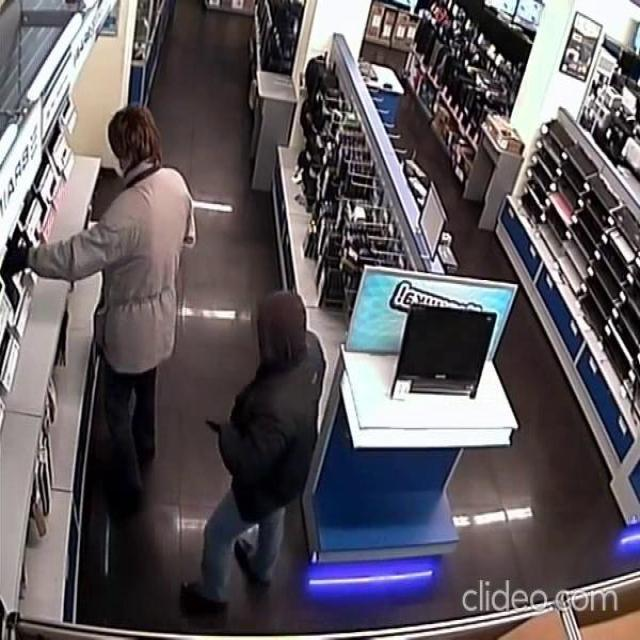pistol: (202, 416, 226, 438)
